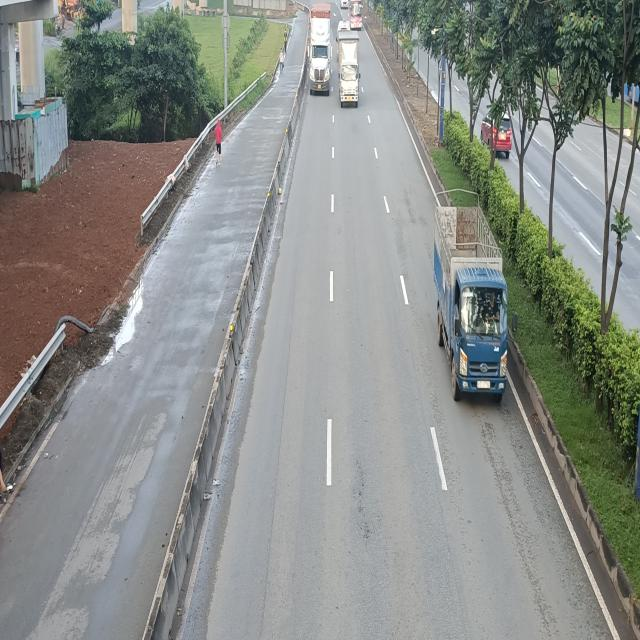container: (307, 2, 333, 92)
truck: (436, 200, 514, 406), (338, 27, 361, 106)
